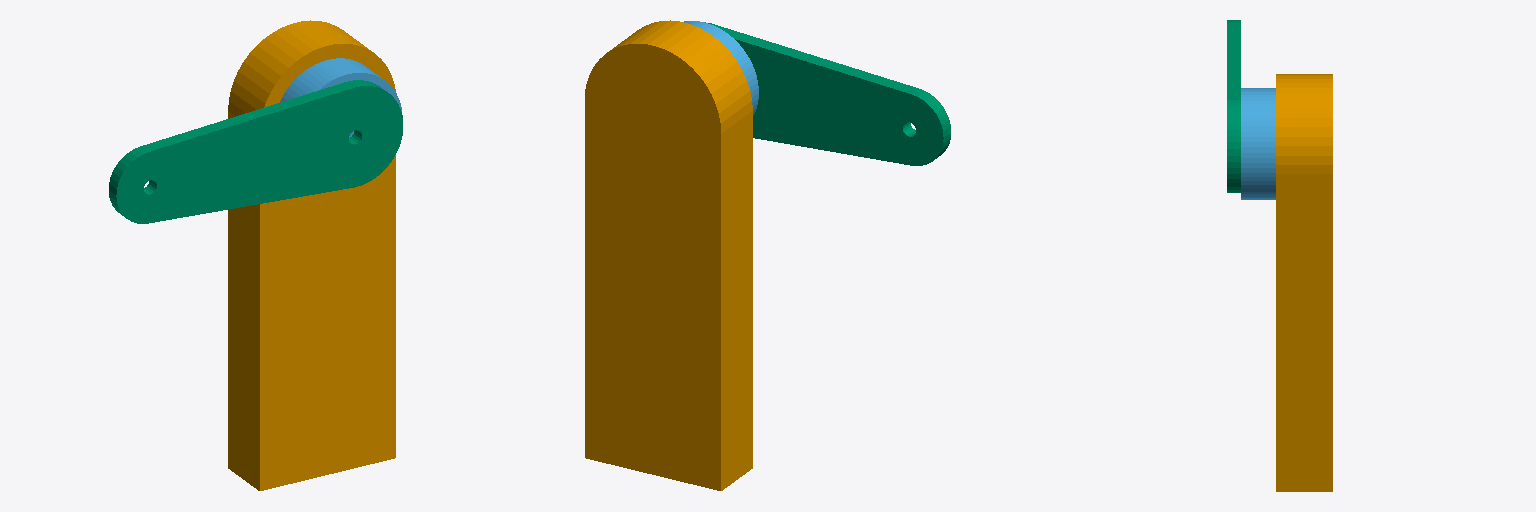
URDF robot description (testbed_bullet):
<?xml version="1.0" ?>
<robot name="testbed_bullet">

<material name="silver">
  <color rgba="0.700 0.700 0.700 1.000"/>
</material>

<link name="base_link">
  <inertial>
    <origin xyz="-7.860260228302348e-18 0.02 0.14485022185990865" rpy="0 0 0"/>
    <mass value="9.083075116533994"/>
    <inertia ixx="0.06509661469140615" iyy="0.07119787662370206" izz="0.008523415296704955" ixy="-3.851859888774472e-34" iyz="0.0" ixz="-1.0341629982579278e-17"/>
  </inertial>
  <visual>
    <origin xyz="0 0 0" rpy="0 0 0"/>
    <geometry>
      <mesh filename="meshes/base_link.stl" scale="0.001 0.001 0.001"/>
    </geometry>
    <material name="silver"/>
    <material/>
  </visual>
  <collision>
    <origin xyz="0 0 0" rpy="0 0 0"/>
    <geometry>
      <mesh filename="meshes/base_link.stl" scale="0.001 0.001 0.001"/>
    </geometry>
  </collision>
</link>

<link name="joint1">
  <inertial>
    <origin xyz="0.0 -0.012499999999999997 0.0" rpy="0 0 0"/>
    <mass value="0.9864600932271947"/>
    <inertia ixx="0.0004459621671464506" iyy="0.0007891680745817434" izz="0.00044596216714646783" ixy="3.552713678800501e-19" iyz="0.0" ixz="-6.247091732802801e-19"/>
  </inertial>
  <visual>
    <origin xyz="-0.0 -0.0 -0.25" rpy="0 0 0"/>
    <geometry>
      <mesh filename="meshes/joint1.stl" scale="0.001 0.001 0.001"/>
    </geometry>
    <material name="silver"/>
    <material/>
  </visual>
  <collision>
    <origin xyz="-0.0 -0.0 -0.25" rpy="0 0 0"/>
    <geometry>
      <mesh filename="meshes/joint1.stl" scale="0.001 0.001 0.001"/>
    </geometry>
  </collision>
</link>

<link name="link21">
  <inertial>
    <origin xyz="-0.06427288587805237 -0.0049999999999999975 0.0" rpy="0 0 0"/>
    <mass value="0.9228171105920571"/>
    <inertia ixx="0.0002841549874320129" iyy="0.0032272298811555633" izz="0.0029584551789000792" ixy="-2.168404344971009e-19" iyz="8.673617379884035e-19" ixz="-3.469446951953614e-18"/>
  </inertial>
  <visual>
    <origin xyz="-0.0 0.025 -0.25" rpy="0 0 0"/>
    <geometry>
      <mesh filename="meshes/link21.stl" scale="0.001 0.001 0.001"/>
    </geometry>
    <material name="silver"/>
    <material/>
  </visual>
  <collision>
    <origin xyz="-0.0 0.025 -0.25" rpy="0 0 0"/>
    <geometry>
      <mesh filename="meshes/link21.stl" scale="0.001 0.001 0.001"/>
    </geometry>
  </collision>
</link>

<joint name="Revolute_1" type="continuous">
  <origin xyz="0.0 0.0 0.25" rpy="0 0 0"/>
  <parent link="base_link"/>
  <child link="joint1"/>
  <axis xyz="0.0 1.0 0.0"/>
  <!-- <dynamics damping="0.5" friction="0.5"/> Add this line for friction and damping -->
</joint>
<transmission name="Revolute_1_tran">
  <type>transmission_interface/SimpleTransmission</type>
  <joint name="Revolute_1">
    <hardwareInterface>PositionJointInterface</hardwareInterface>
  </joint>
  <actuator name="Revolute_1_actr">
    <hardwareInterface>PositionJointInterface</hardwareInterface>
    <mechanicalReduction>1</mechanicalReduction>
  </actuator>
</transmission>

<joint name="Rigid_2" type="fixed">
  <origin xyz="0.0 -0.025 0.0" rpy="0 0 0"/>
  <parent link="joint1"/>
  <child link="link21"/>
</joint>

</robot>

--- What the picture shows (computed from the rendered views, not written in the file) ---
Views: 3 orthographic renders of the robot side by side, from view 1: azimuth 30°, elevation 25°; view 2: azimuth 150°, elevation 25°; view 3: azimuth 270°, elevation 25°.
Model testbed_bullet with 3 links and 2 joints (1 continuous, 1 fixed), rooted at base_link, posed every joint at zero.
Visible links, largest first — view 1: base_link, link21, joint1; view 2: base_link, link21, joint1; view 3: base_link, joint1, link21.
Link boxes in pixels (x1,y1,x2,y2): base_link: (228,20,395,490); link21: (109,80,402,223); joint1: (280,58,401,189); base_link: (585,20,752,490); link21: (705,22,950,165); joint1: (684,21,758,115); base_link: (1276,74,1332,491); joint1: (1241,88,1275,199); link21: (1227,20,1240,192).
Bounding box of the posed robot: 0.225 × 0.075 × 0.2999 m (x, y, z).
Meshes: 3 distinct files referenced, 3 mesh visuals loaded (3 binary STL).